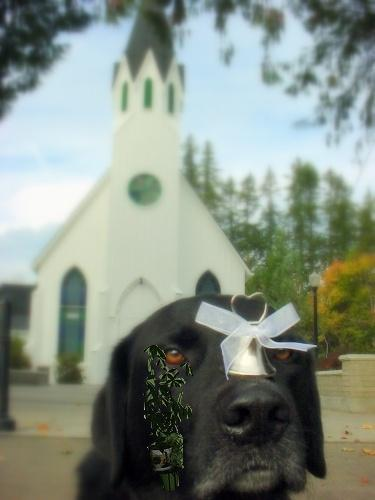tampered: (144, 346, 193, 491)
